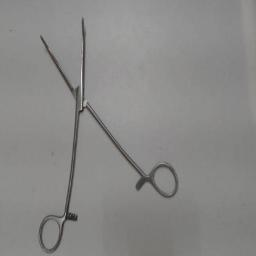Lahey Forceps: (35, 12, 181, 256)
